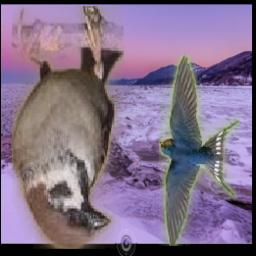Sparrow: (12, 6, 124, 249)
Swallow: (158, 56, 239, 247)
